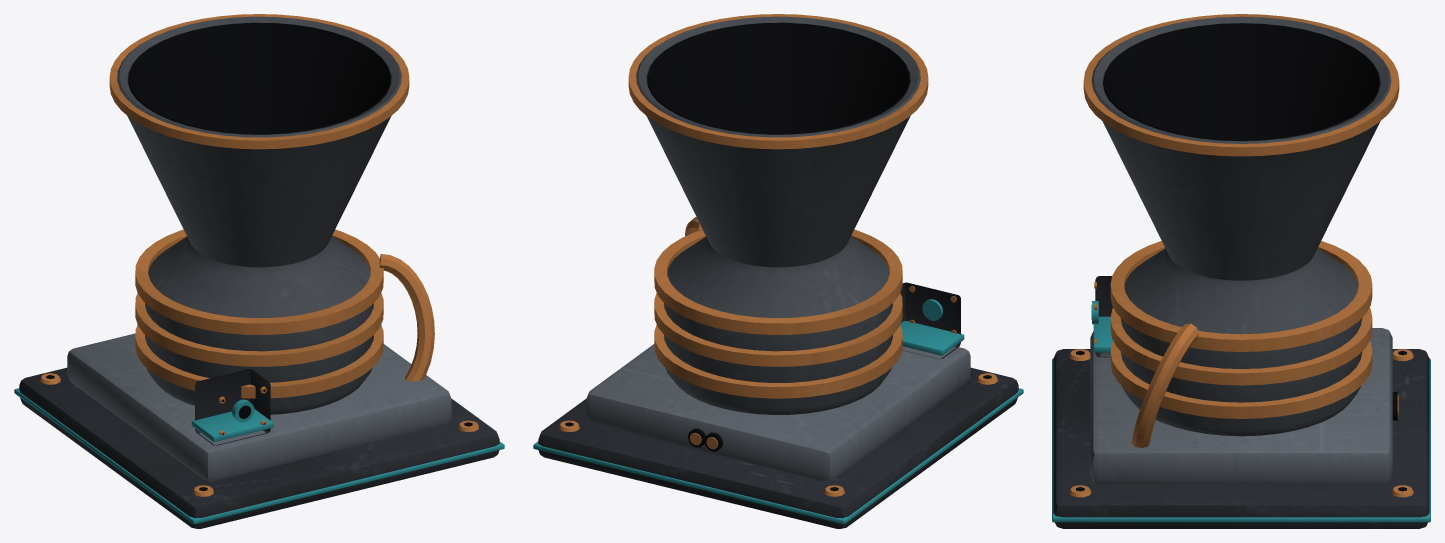
The model's file is thruster_2.glb.
3 renders of one model, left to right at view 1: azimuth 30°, elevation 25°; view 2: azimuth 150°, elevation 25°; view 3: azimuth 270°, elevation 25°, orthographic. The views are drawn at different scales.
Visible parts, largest first — view 1: Body; view 2: Body; view 3: Body.
Part boxes in pixels (x1=…): Body: x1=14, y1=14, x2=504, y2=528; Body: x1=533, y1=14, x2=1023, y2=528; Body: x1=1052, y1=14, x2=1430, y2=528.
Bounding box in the file's own units: 0.2256 × 0.246 × 0.2256.
Materials: 7 (4 with a texture image).
